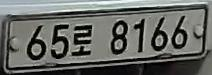1: (131, 17, 148, 54)
5: (50, 22, 71, 60)
6: (24, 23, 49, 62), (169, 14, 189, 49), (150, 16, 169, 52)
8: (109, 18, 130, 55)
로: (70, 23, 95, 58)
